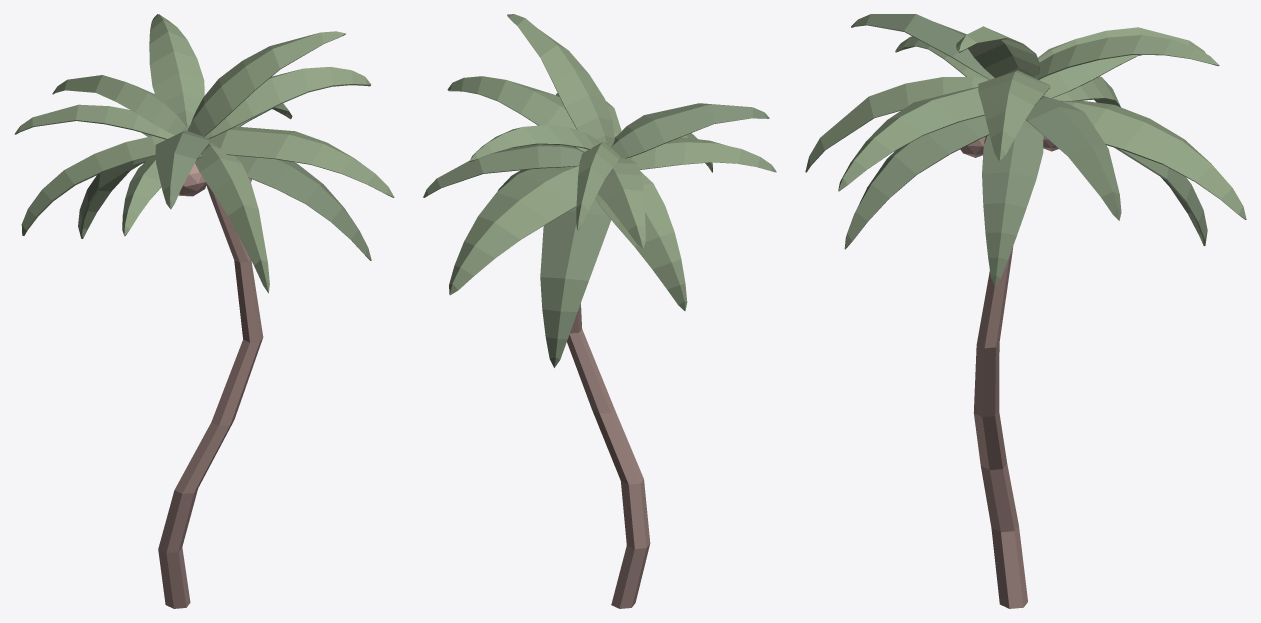
Rendered from palm_tree_4.glb.
The picture shows the model from 3 angles, left to right: view 1: azimuth 30°, elevation 25°; view 2: azimuth 150°, elevation 25°; view 3: azimuth 270°, elevation 25°; orthographic projection. The views are drawn at different scales.
Parts seen in each view (by area): view 1: Green_Tree, Wood, DarkGreen_Tree, Coconuts; view 2: Green_Tree, DarkGreen_Tree, Wood; view 3: Green_Tree, DarkGreen_Tree, Wood.
Part boxes in pixels (x1,y1,x2,y2): Green_Tree: (14, 14, 394, 293); Wood: (158, 184, 263, 608); DarkGreen_Tree: (78, 103, 371, 260); Coconuts: (178, 163, 251, 196); Green_Tree: (447, 14, 776, 310); DarkGreen_Tree: (423, 103, 769, 367); Wood: (567, 303, 650, 608); Green_Tree: (805, 26, 1246, 219); DarkGreen_Tree: (844, 14, 1207, 286); Wood: (973, 246, 1027, 608).
Bounding box in the file's own units: 1.81 × 3.25 × 2.05.
